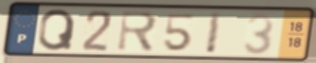2: (79, 9, 114, 53)
3: (242, 11, 277, 56)
5: (160, 12, 196, 53)
I: (203, 11, 225, 56)
Q: (37, 7, 78, 53)
R: (115, 9, 161, 54)
